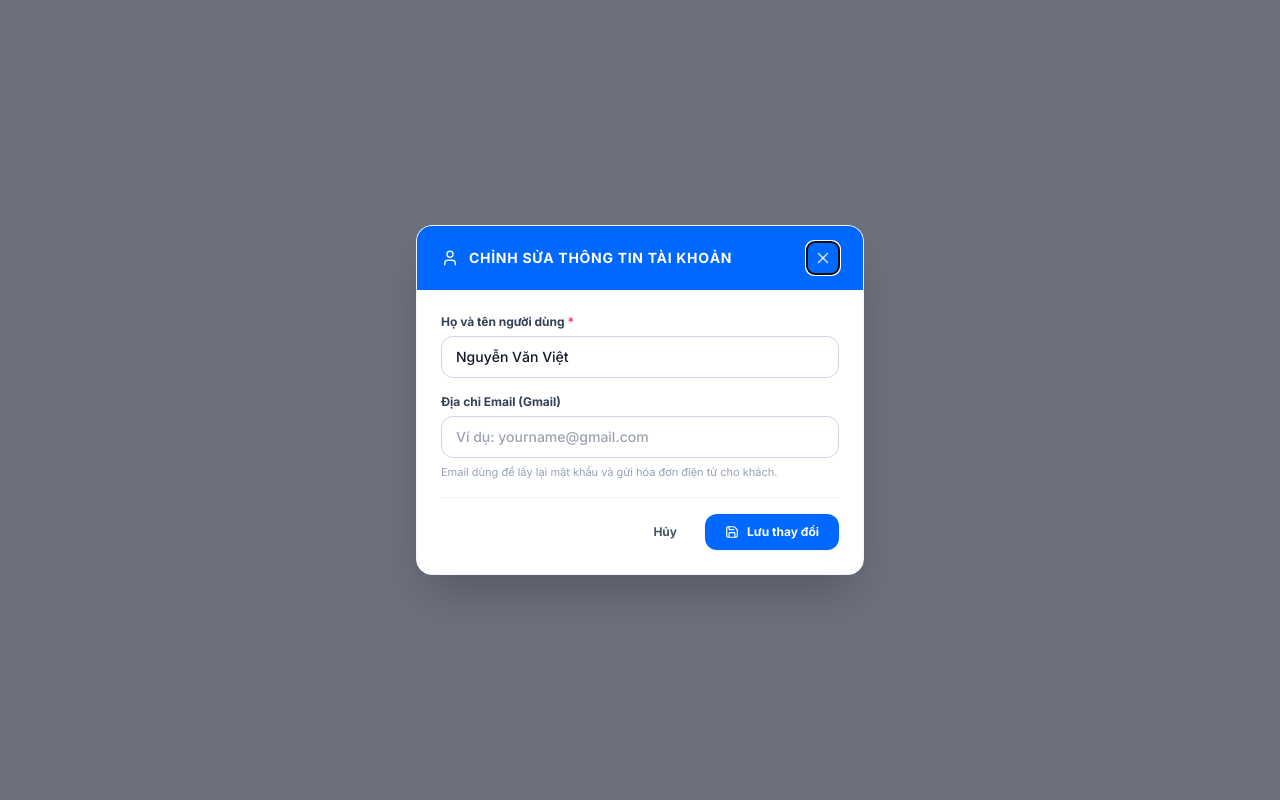
Test: NCL-01-CN-006: Đổi mật khẩu và cập nhật hồ sơ cá nhân › Cập nhật họ tên (EditProfileModal) › validates empty name input
Clear the field with placeholder "Nhập họ và tên đầy đủ..." at (640, 357), box [441,336,839,378]
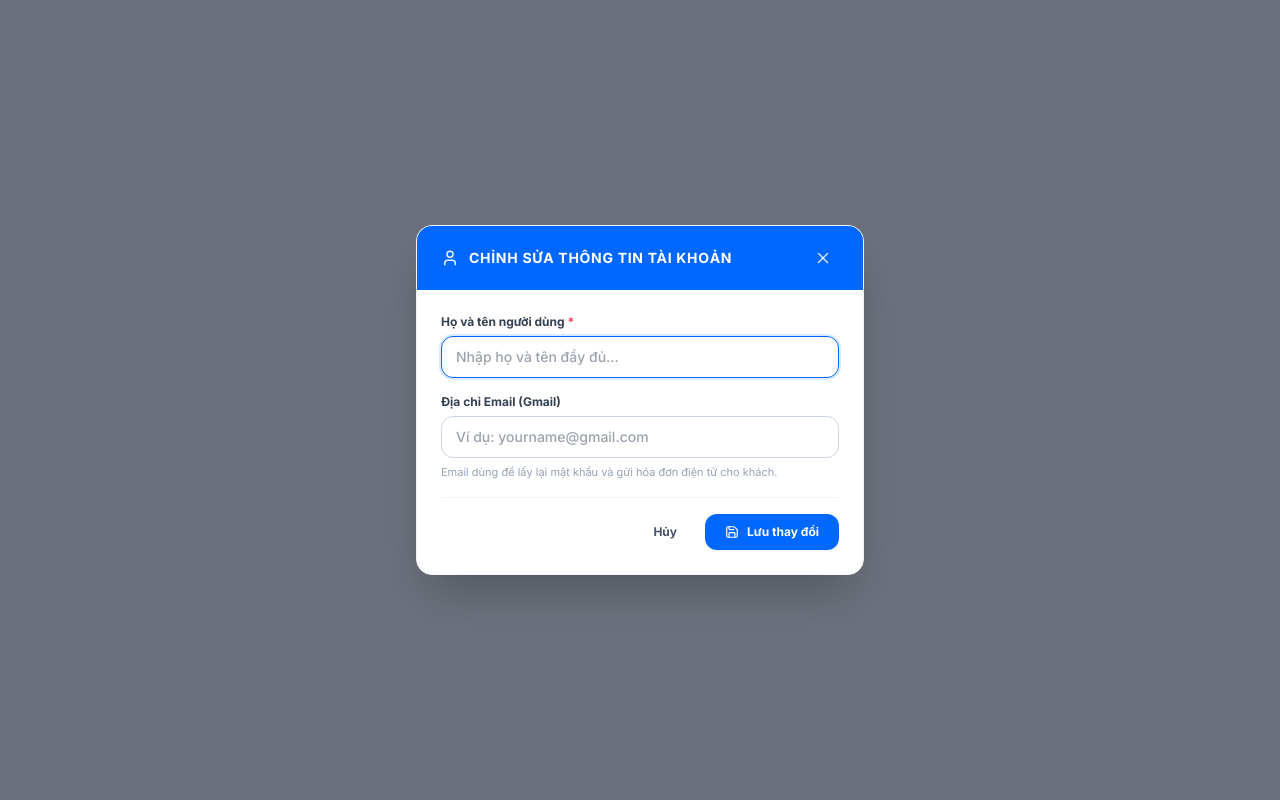
Click the button "Lưu thay đổi" at (772, 532), box [705,514,839,550]
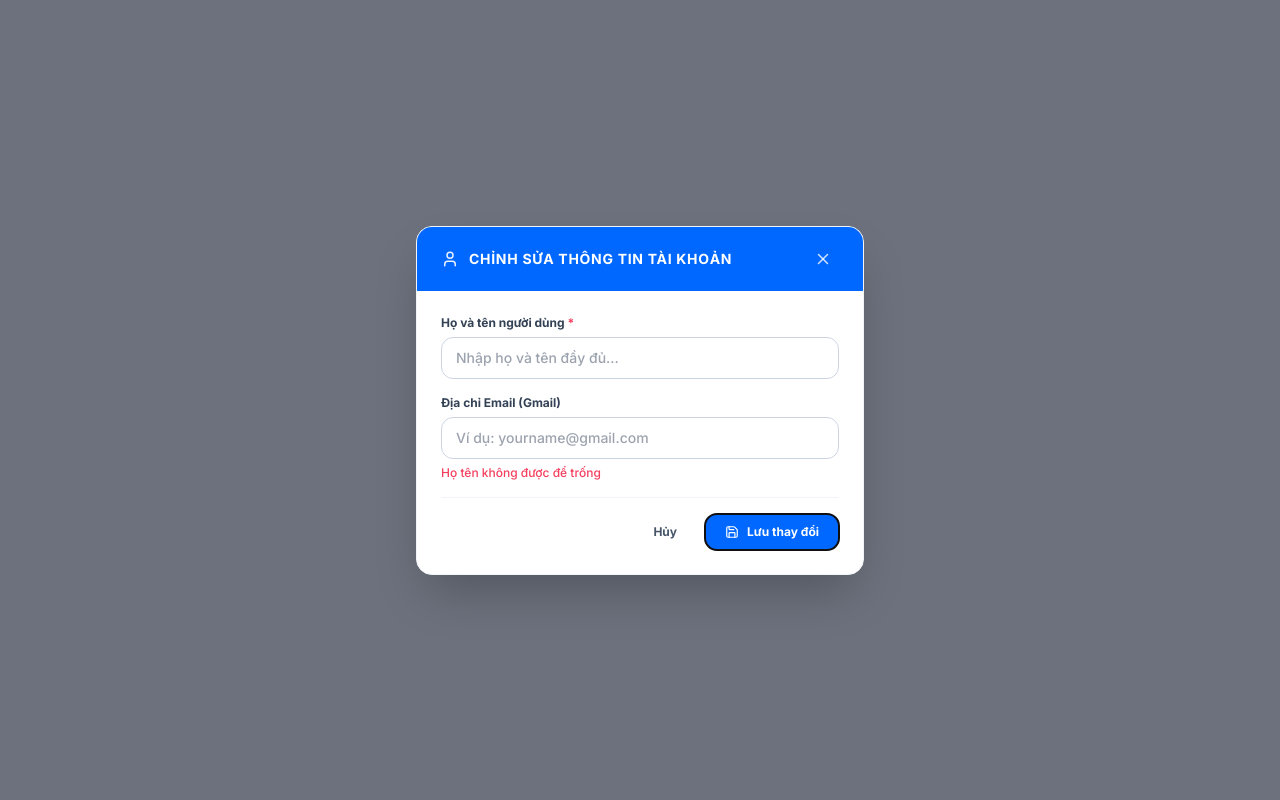
Expected: the text "Họ tên không được để trống" is shown, [441,464,601,480]
